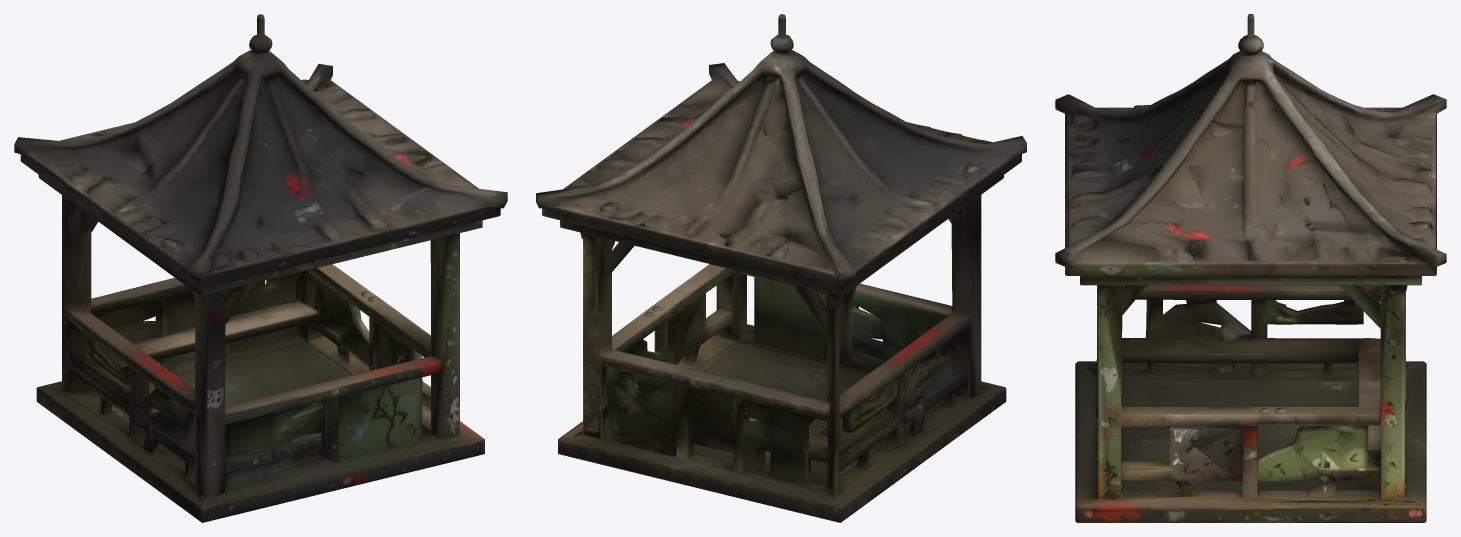
File: gazebo.glb
3 views of the same model, side by side, from view 1: azimuth 30°, elevation 25°; view 2: azimuth 150°, elevation 25°; view 3: azimuth 270°, elevation 25° (orthographic). The views are drawn at different scales.
Parts seen in each view (by area): view 1: tripo_node_4b3a7738-36bb-475f-8d34-9b2155bd4212; view 2: tripo_node_4b3a7738-36bb-475f-8d34-9b2155bd4212; view 3: tripo_node_4b3a7738-36bb-475f-8d34-9b2155bd4212.
Part boxes in pixels (<box>): tripo_node_4b3a7738-36bb-475f-8d34-9b2155bd4212: <box>14,14,507,522</box>; tripo_node_4b3a7738-36bb-475f-8d34-9b2155bd4212: <box>536,14,1026,522</box>; tripo_node_4b3a7738-36bb-475f-8d34-9b2155bd4212: <box>1055,14,1446,522</box>.
Size of the model in its own units: 1.21 by 1.5 by 1.22.
Materials: 1 (1 with a texture image).
